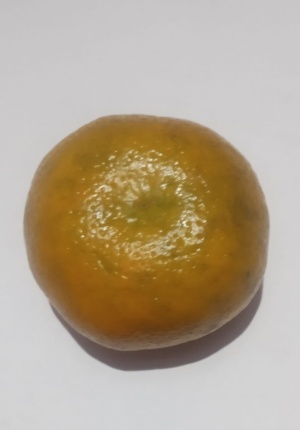BAD: (16, 109, 279, 360)
